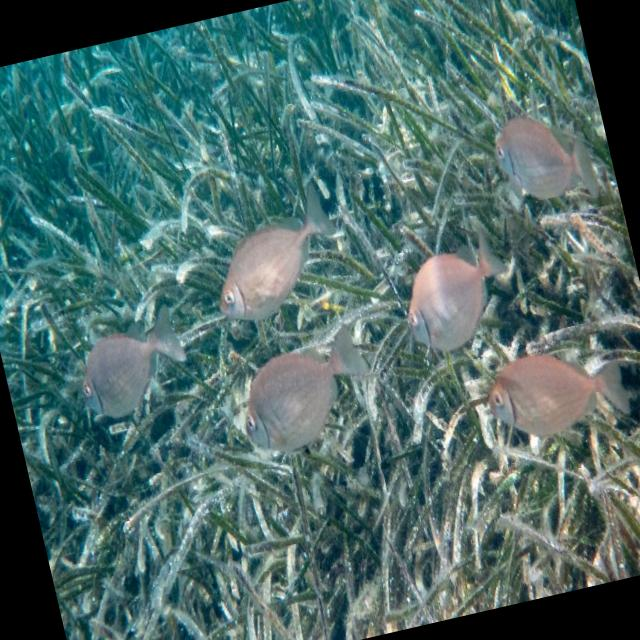Sokar Baligi: (216, 304, 390, 478), (190, 164, 357, 334), (382, 206, 524, 364), (468, 326, 640, 456), (470, 92, 614, 236), (60, 292, 196, 428)
